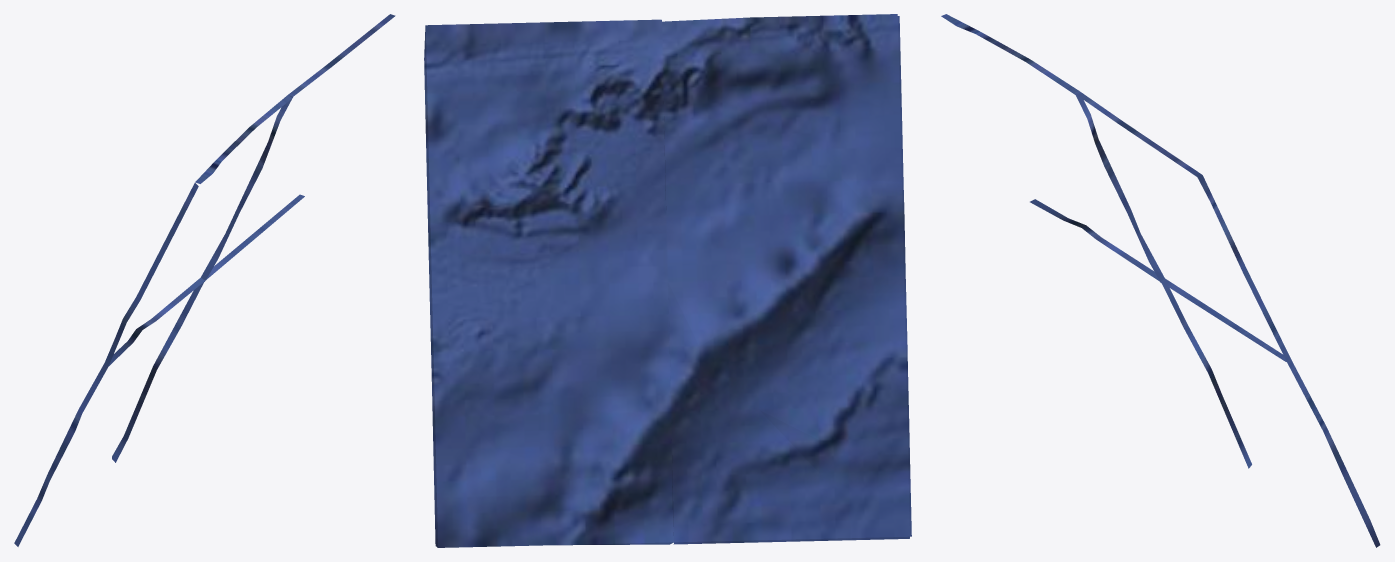
3 renders of one model, left to right at view 1: azimuth 30°, elevation 25°; view 2: azimuth 150°, elevation 25°; view 3: azimuth 270°, elevation 25°, orthographic. The views are drawn at different scales.
Size of the model in its own units: 38854 by 36227 by 33873.
1 material, 1 textured.
